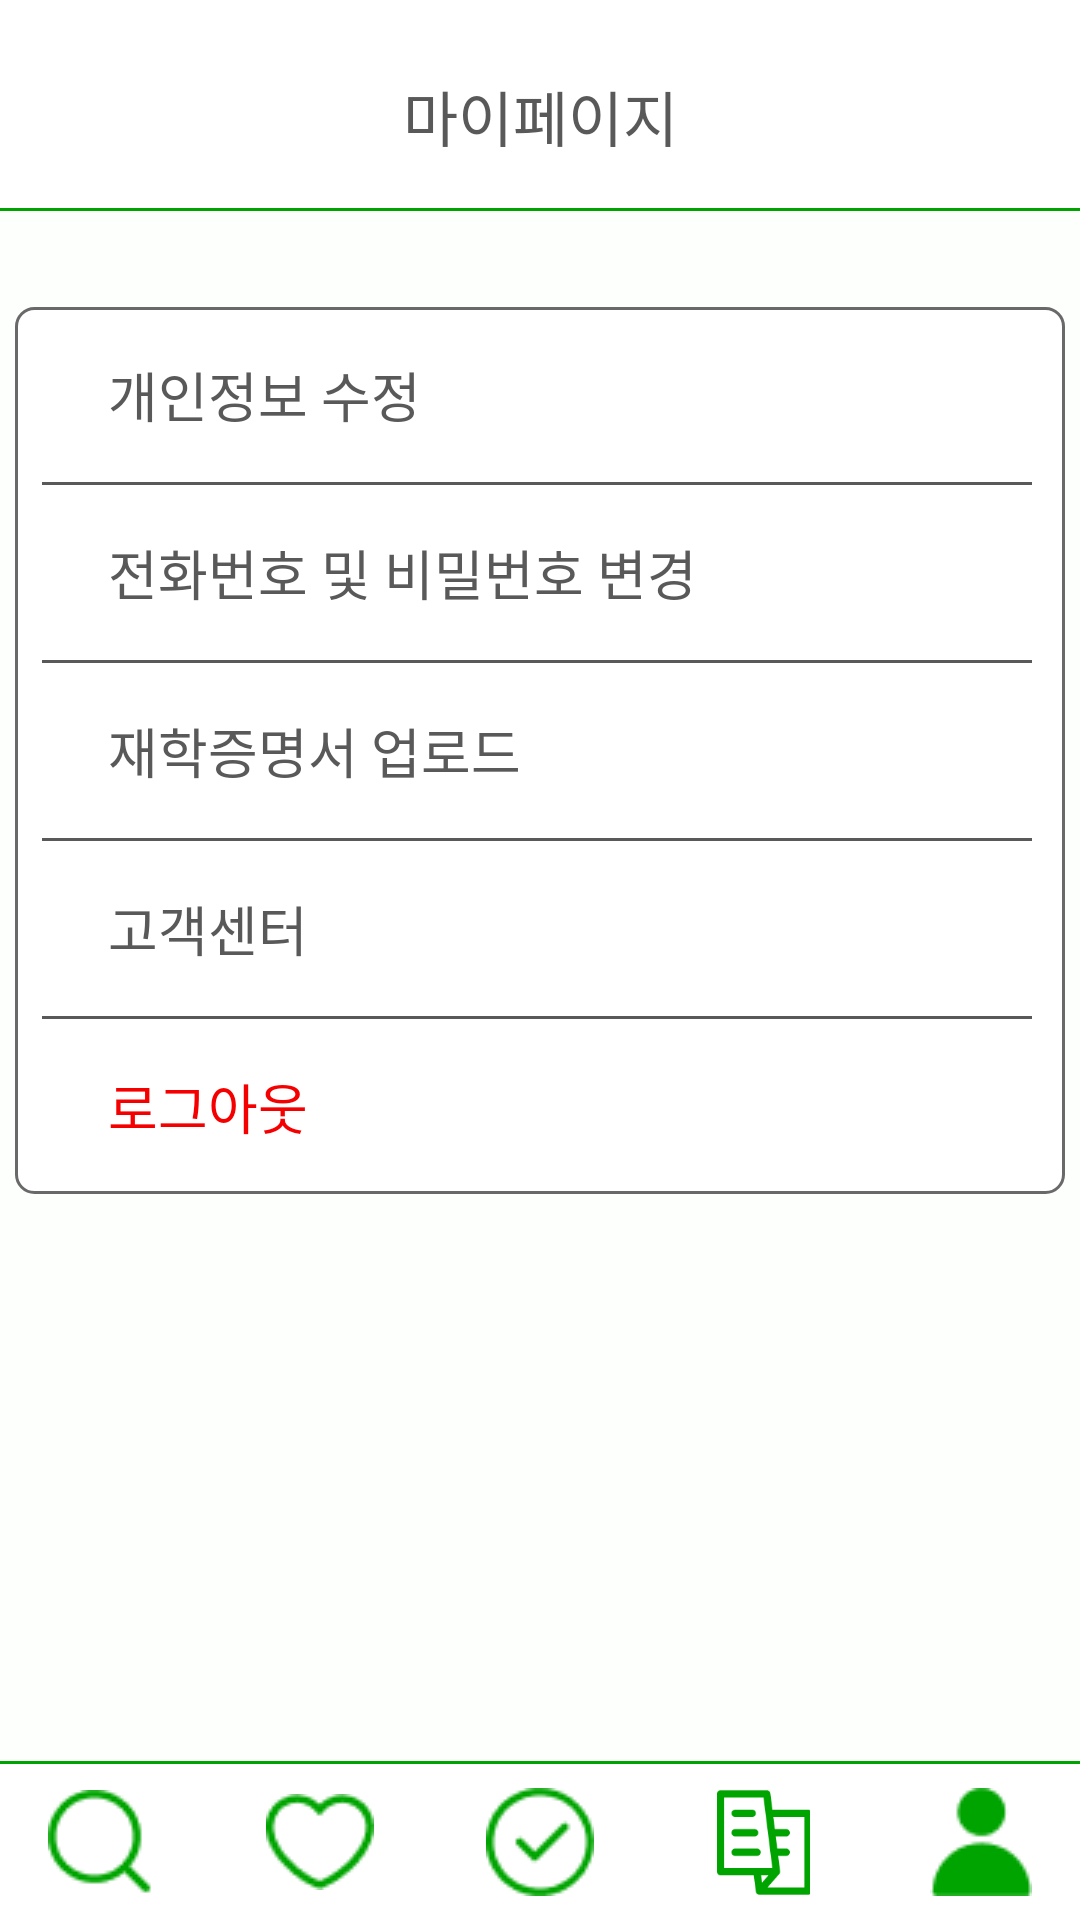

Icon click points for this 1080*1920 phone screenshot, format point (x, y):
offcheck: point (540, 1842)
offheart: point (320, 1842)
offmagazine: point (763, 1842)
offsearch: point (99, 1841)
onprofile: point (981, 1842)
